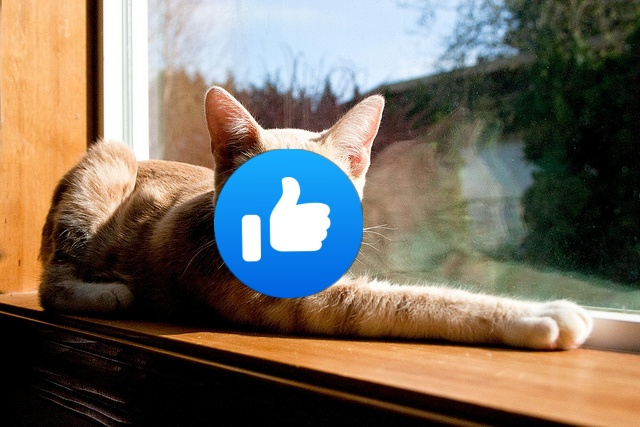like: (214, 149, 363, 298)
